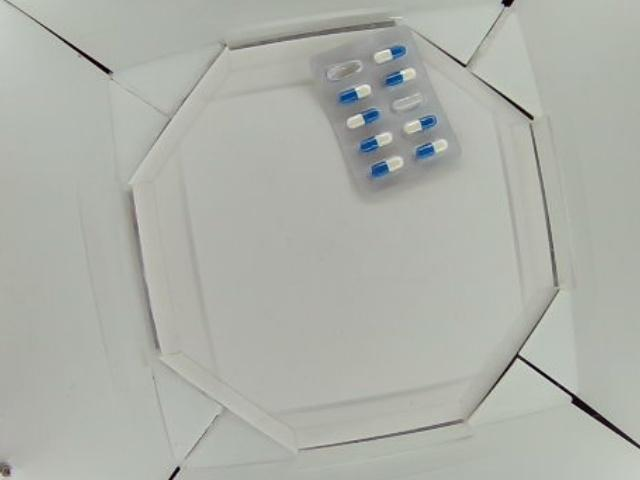Medicine: (308, 24, 464, 203)
